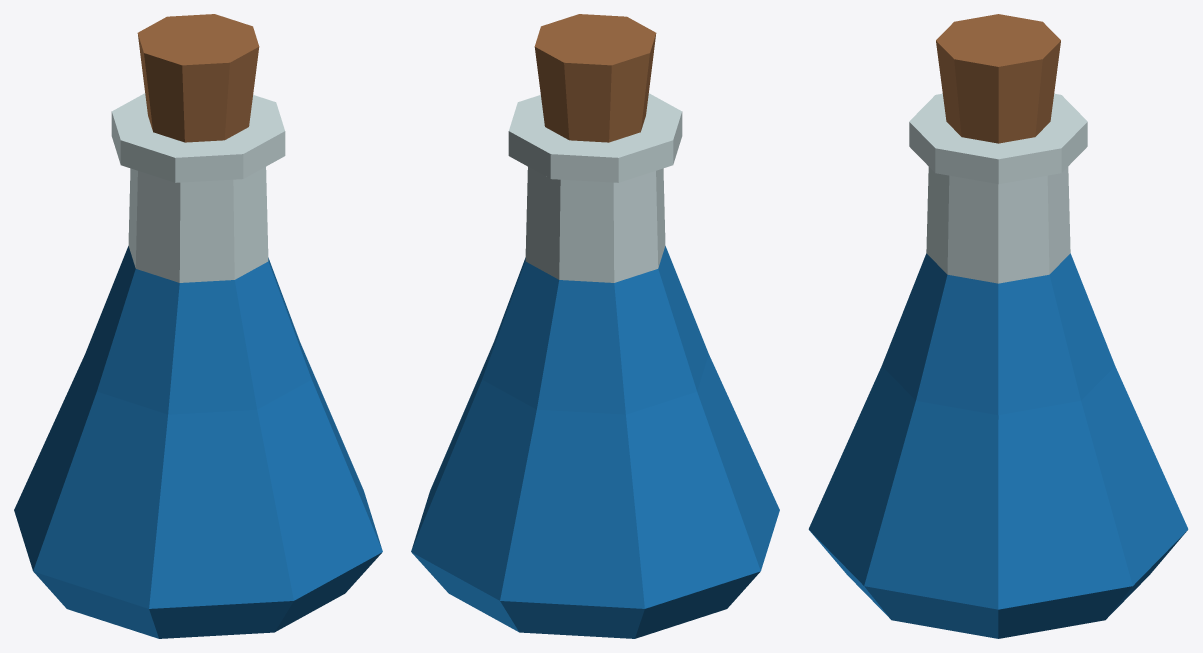
Rendered from ManaPot_tex.fbx.
The picture shows the model from 3 angles, left to right: view 1: azimuth 30°, elevation 25°; view 2: azimuth 150°, elevation 25°; view 3: azimuth 270°, elevation 25°; orthographic projection.
Parts seen in each view (by area): view 1: ManaPot_tex; view 2: ManaPot_tex; view 3: ManaPot_tex.
Part boxes in pixels (x1,y1,x2,y2): ManaPot_tex: [14, 14, 382, 638]; ManaPot_tex: [411, 14, 779, 638]; ManaPot_tex: [808, 14, 1188, 638].
Bounding box in the file's own units: 0.1456 × 0.226 × 0.1456.
